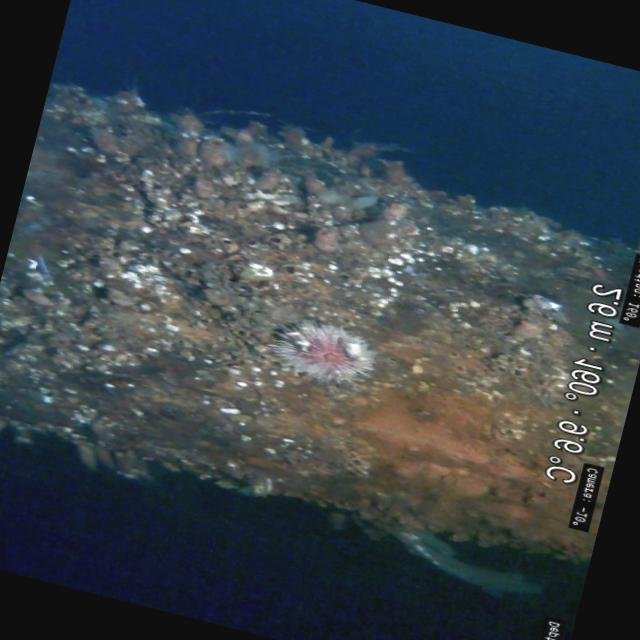Deniz Kestanesi: (260, 308, 382, 392)
